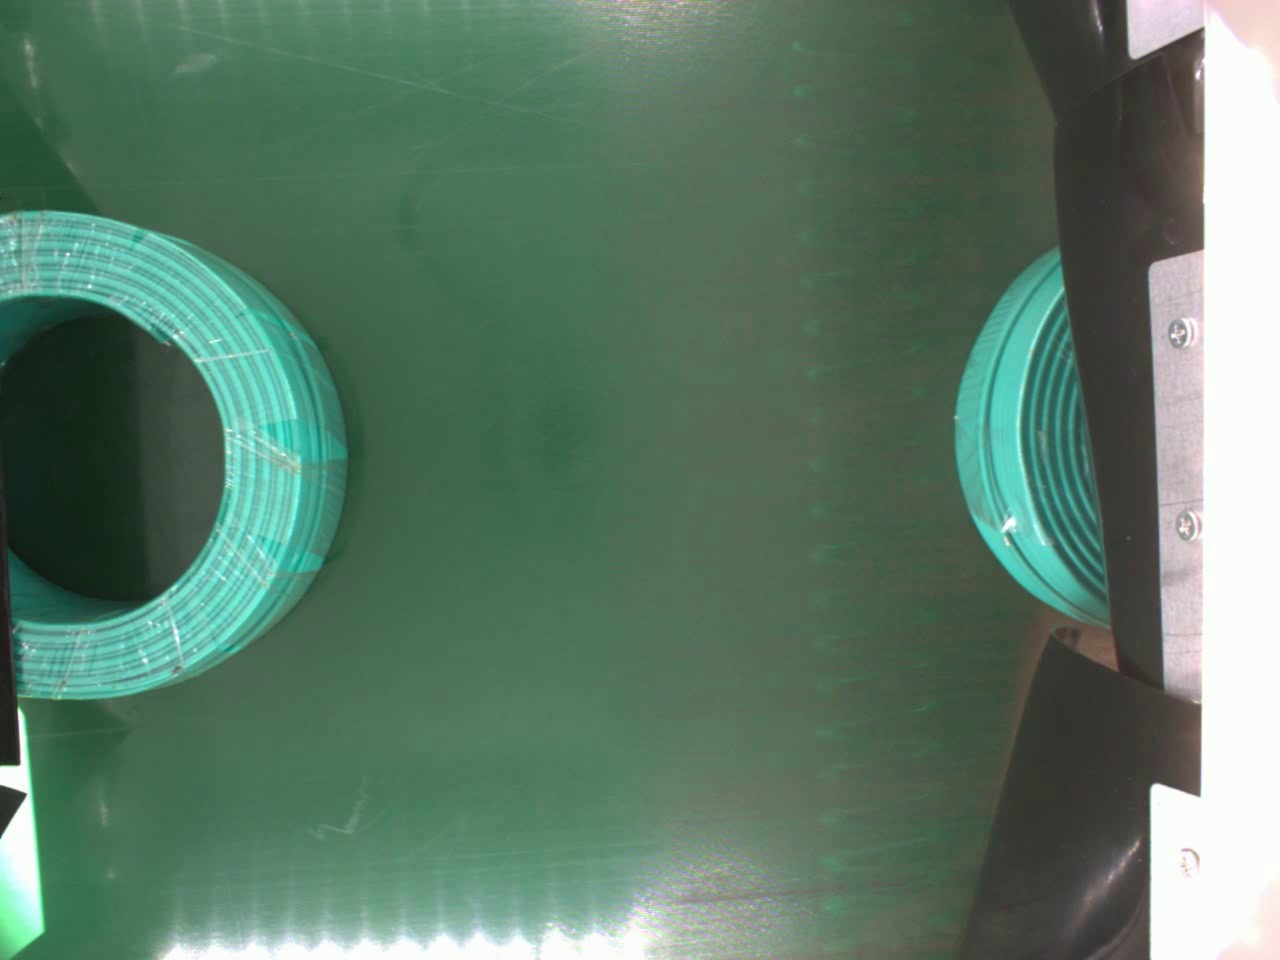green: (0, 210, 346, 702), (950, 242, 1110, 627)
